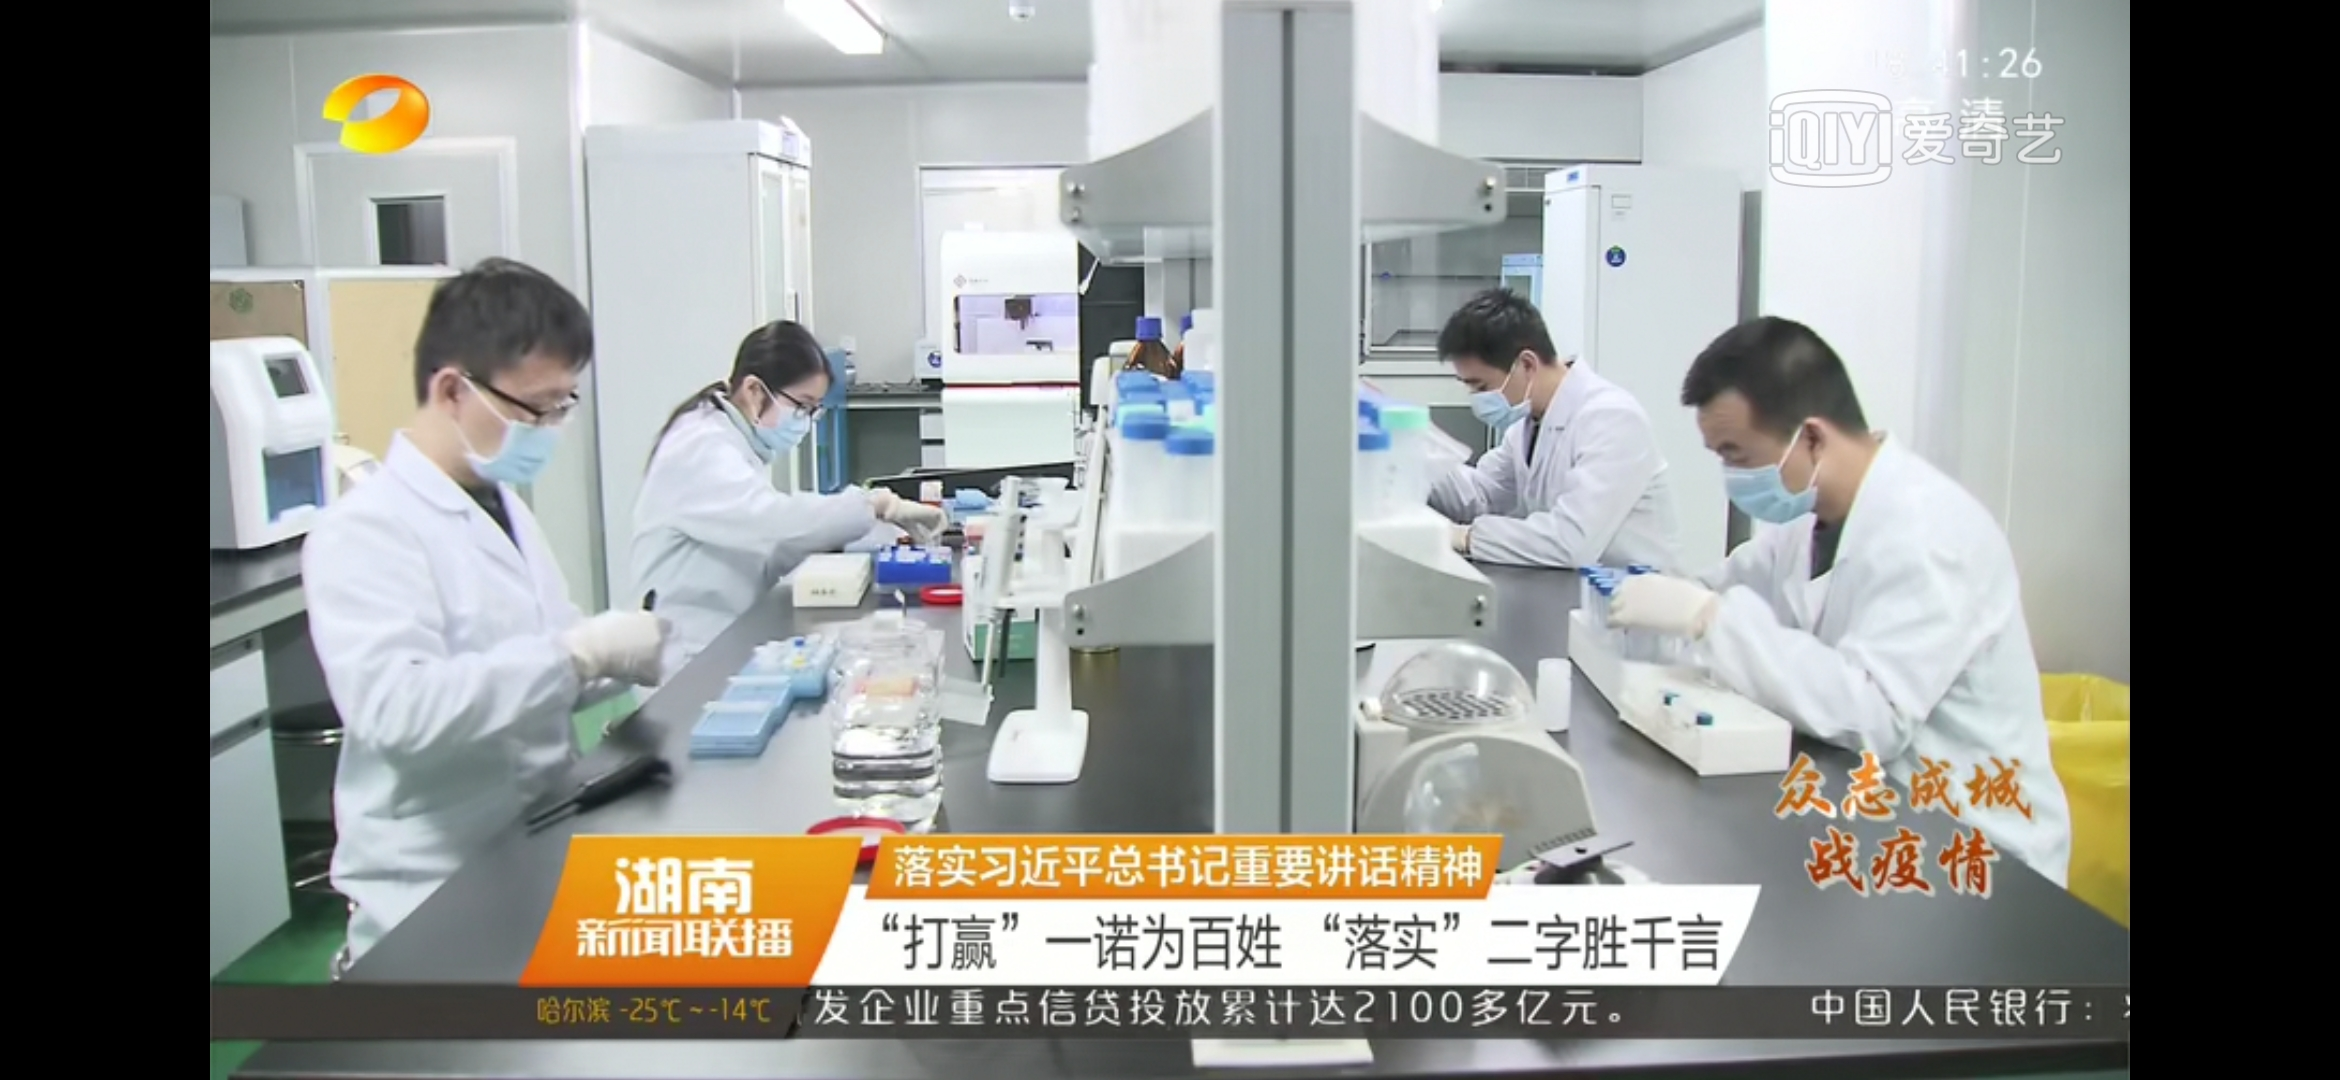correctlyWear: (428, 346, 584, 492), (1694, 395, 1830, 527), (1443, 330, 1545, 433), (733, 354, 833, 456)
